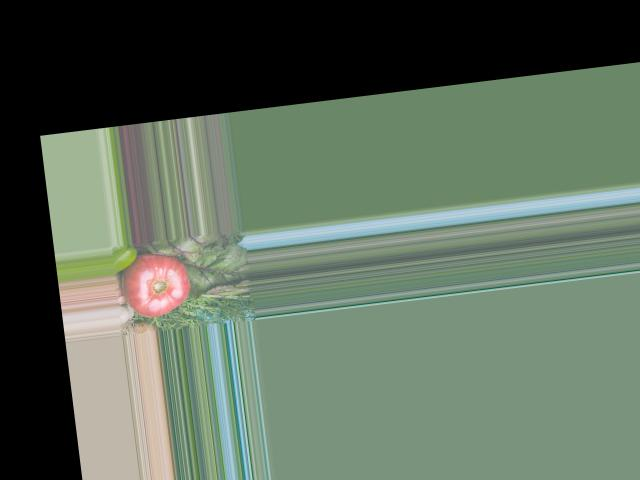tomato: (116, 247, 192, 320)
